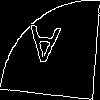A: (25, 25, 61, 74)
